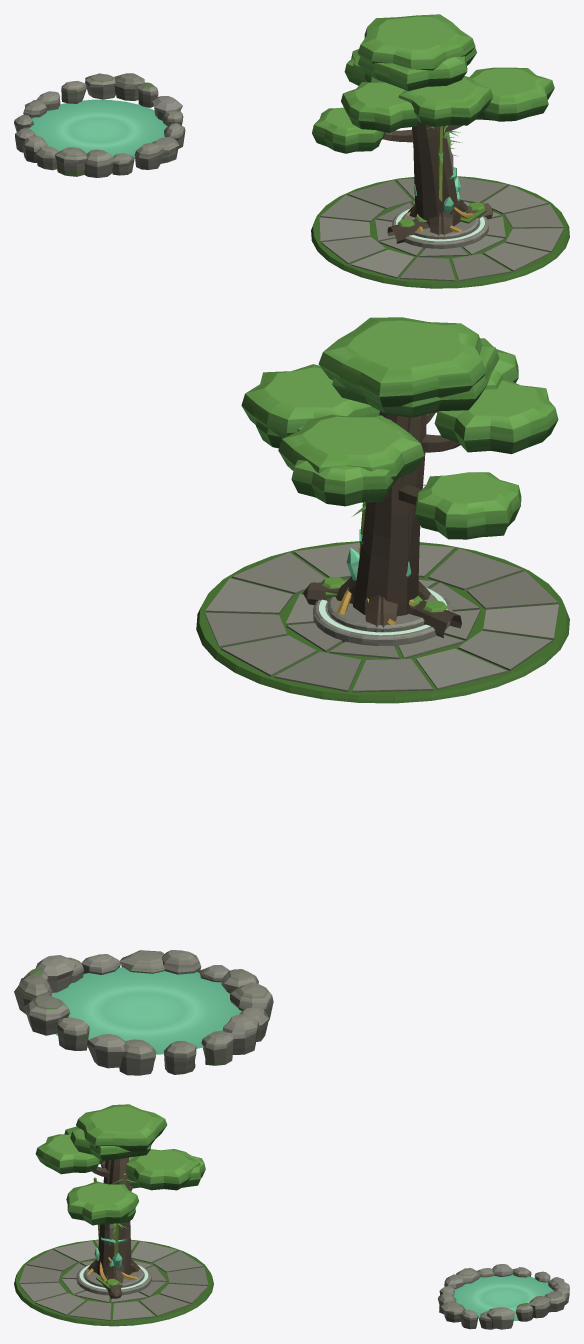
The model's file is JadeGrove_Props.fbx.
3 renders of one model, top to bottom at view 1: azimuth 30°, elevation 25°; view 2: azimuth 150°, elevation 25°; view 3: azimuth 270°, elevation 25°, orthographic. The views are drawn at different scales.
Parts seen in each view (by area): view 1: JG_GladeFloor, JG_AncientTreeA, JG_AncientTreeB, JG_HollowRim, JG_HollowWater, JG_EggPedestal, JG_FallenLog, JG_BambooClump; view 2: JG_GladeFloor, JG_AncientTreeA, JG_AncientTreeB, JG_HollowRim, JG_HollowWater, JG_EggPedestal, JG_FallenLog; view 3: JG_AncientTreeA, JG_GladeFloor, JG_HollowRim, JG_HollowWater, JG_AncientTreeB, JG_EggPedestal, JG_BambooClump.
Part boxes in pixels (bbox=[...]): JG_GladeFloor: bbox=[311, 176, 569, 288]; JG_AncientTreeA: bbox=[312, 14, 554, 239]; JG_AncientTreeB: bbox=[341, 47, 495, 239]; JG_HollowRim: bbox=[14, 73, 185, 177]; JG_HollowWater: bbox=[29, 99, 167, 157]; JG_EggPedestal: bbox=[392, 192, 488, 248]; JG_FallenLog: bbox=[387, 202, 493, 243]; JG_BambooClump: bbox=[427, 125, 462, 201]; JG_GladeFloor: bbox=[196, 541, 569, 703]; JG_AncientTreeA: bbox=[241, 317, 521, 632]; JG_AncientTreeB: bbox=[256, 343, 558, 632]; JG_HollowRim: bbox=[14, 950, 273, 1075]; JG_HollowWater: bbox=[51, 967, 241, 1054]; JG_EggPedestal: bbox=[313, 586, 452, 647]; JG_FallenLog: bbox=[303, 576, 461, 637]; JG_AncientTreeA: bbox=[35, 1104, 200, 1282]; JG_GladeFloor: bbox=[14, 1239, 213, 1326]; JG_HollowRim: bbox=[438, 1264, 569, 1329]; JG_HollowWater: bbox=[453, 1274, 553, 1320]; JG_AncientTreeB: bbox=[64, 1117, 205, 1279]; JG_EggPedestal: bbox=[76, 1257, 151, 1295]; JG_BambooClump: bbox=[93, 1173, 136, 1254].
Size of the model in its own units: 31.51 by 29.87 by 71.15.
1 material, 1 textured.
